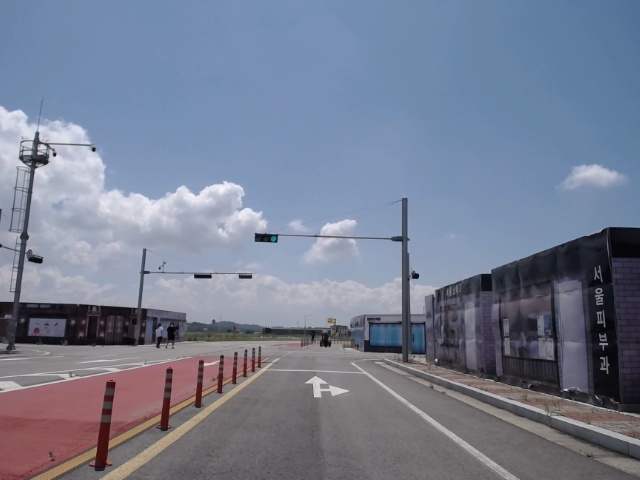green_3: (256, 234, 277, 241)
